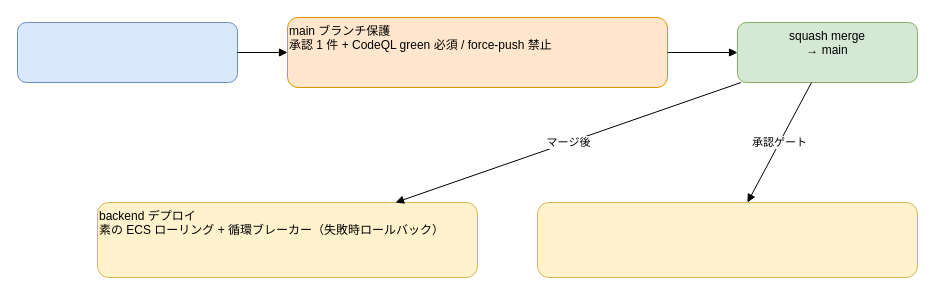
Image size: 935x295. Some labels were removed from this diagram. Each missing label, with the centre of its shape:
"frontend デプロイ production Environment の承認待ちで停止（required reviewers）" goes at [727,240].
"PR （self-approve 不可）" goes at [127,52].
